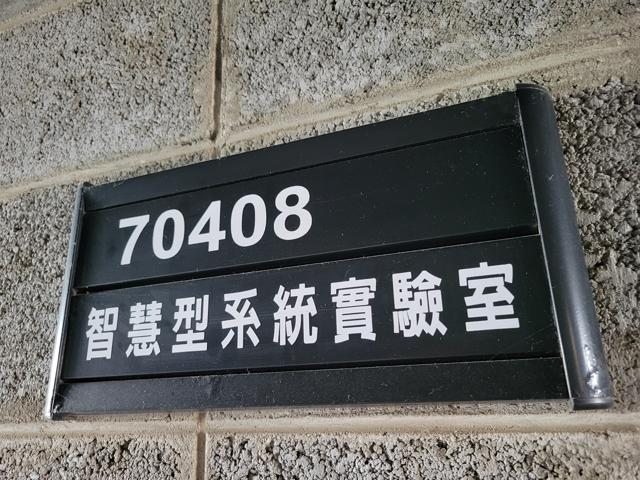doorplate: (30, 71, 619, 423)
